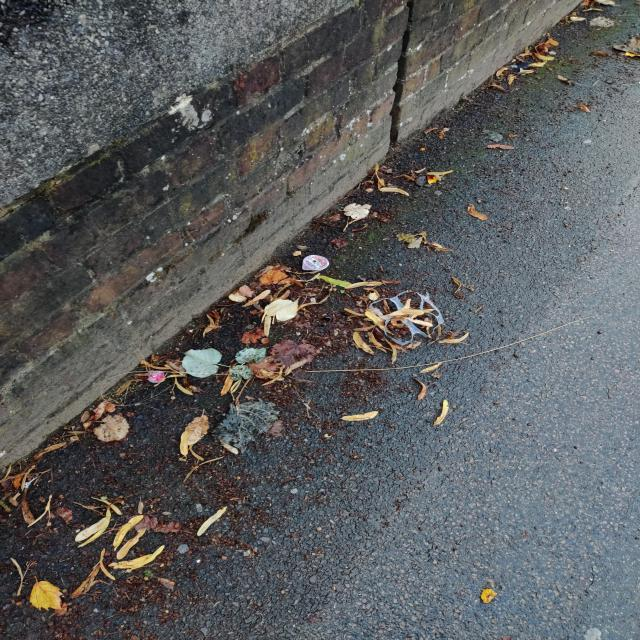litter: (369, 292, 444, 346), (303, 255, 328, 270), (149, 370, 164, 382)
